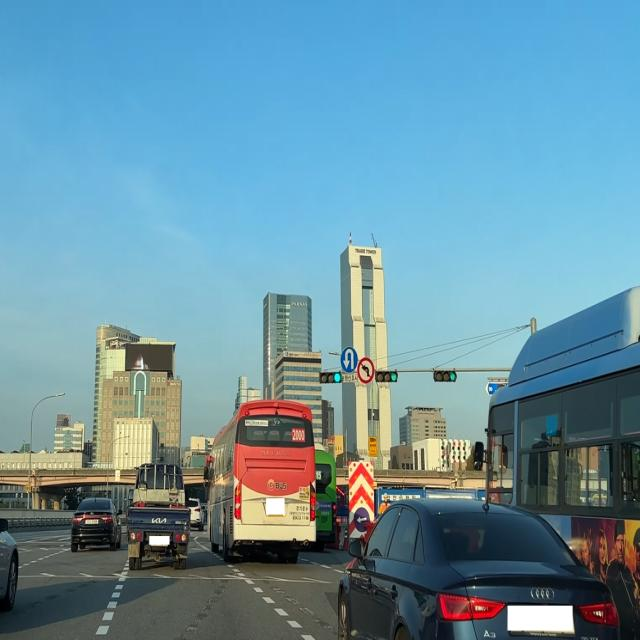Green Light: (334, 372, 341, 383), (390, 372, 398, 381), (449, 370, 456, 380)
